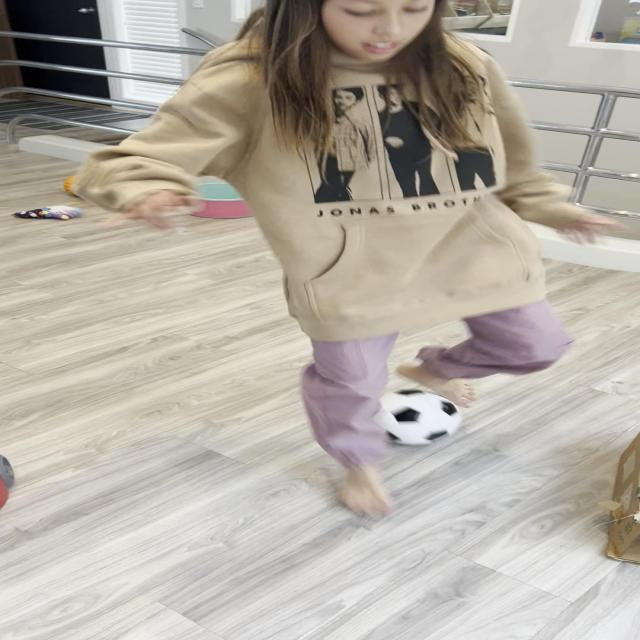Soccer Ball: (364, 389, 462, 444)
